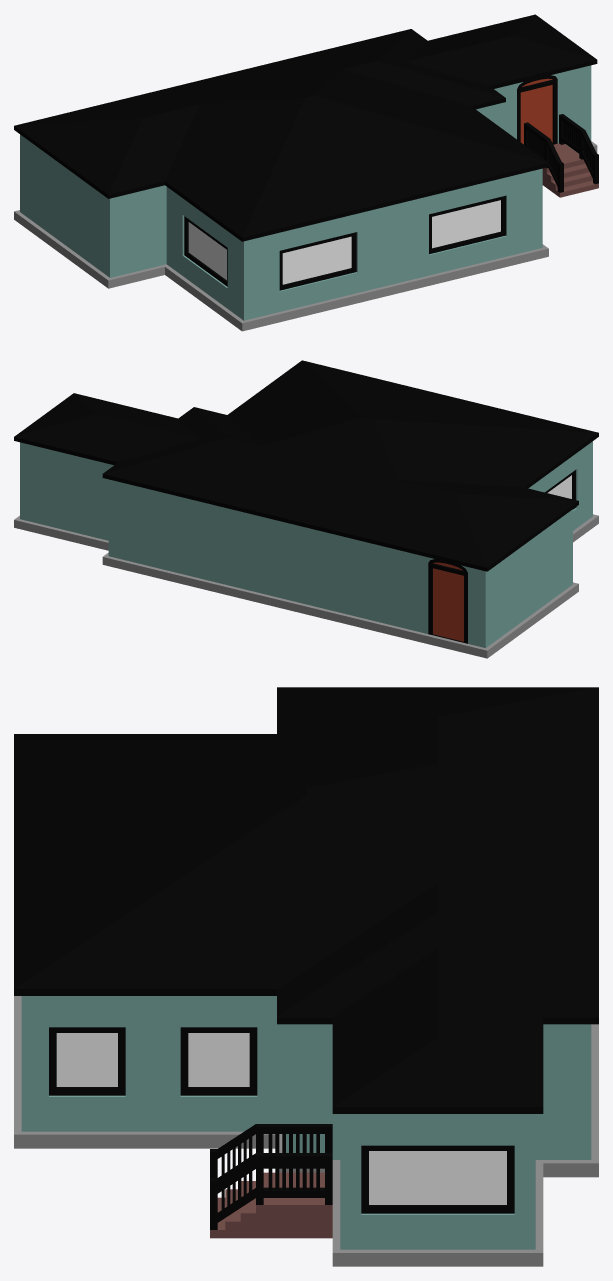
Rendered from House #1.fbx.
The picture shows the model from 3 angles, top to bottom: view 1: azimuth 30°, elevation 25°; view 2: azimuth 150°, elevation 25°; view 3: azimuth 270°, elevation 25°; orthographic projection. The views are drawn at different scales.
Parts seen in each view (by area): view 1: building_001; view 2: building_001; view 3: building_001.
Boxes of the visible parts, x1,y1,x2,y2 form: building_001: [14, 14, 598, 331]; building_001: [14, 360, 598, 658]; building_001: [14, 687, 598, 1266].
Bounding box in the file's own units: 1297 × 330 × 763.
